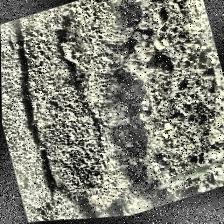pothole: (66, 0, 224, 220)
